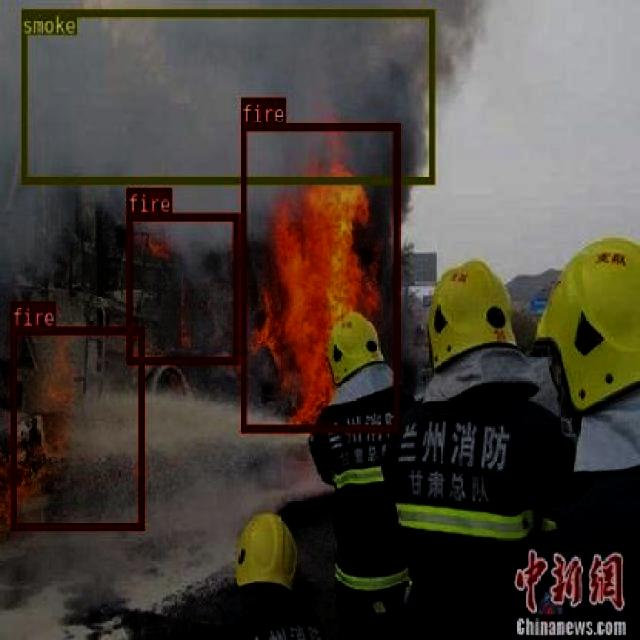fire: (239, 122, 398, 430), (10, 326, 144, 528), (126, 212, 239, 362)
smoke: (21, 9, 433, 183)
